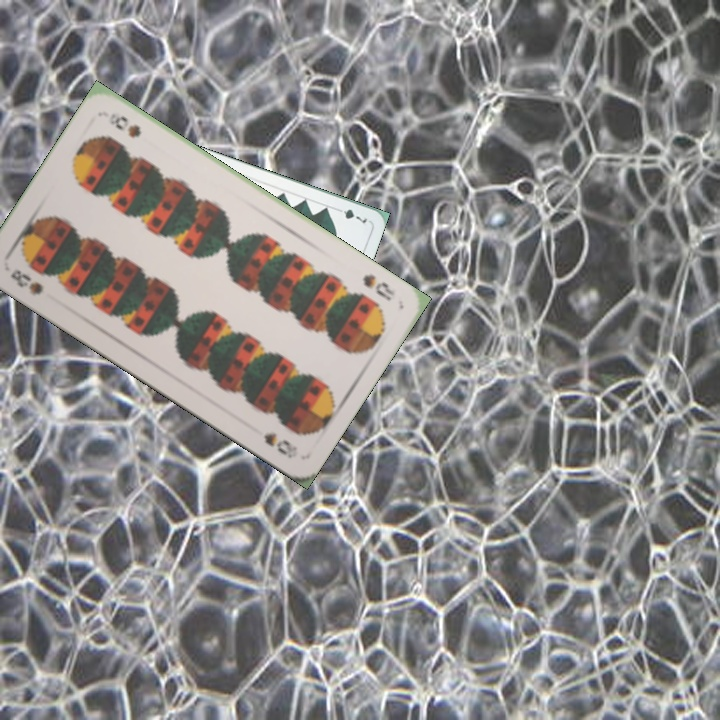G7: (331, 204, 370, 227)
S8: (358, 270, 398, 304), (6, 265, 46, 298)
